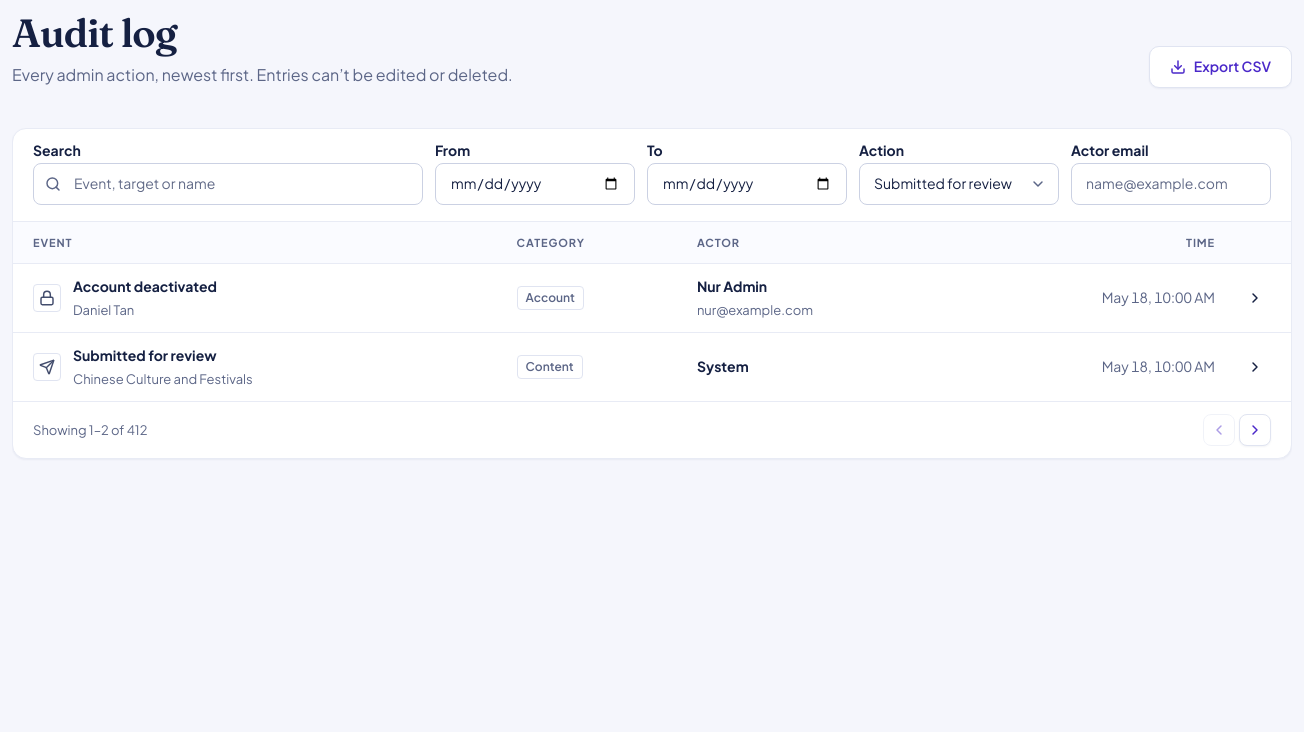
Test: AdminAuditLogPage › exports the filtered log as CSV
The image size is (1304, 732).
Step 1. Click the button with test id "admin-audit-export" → (1220,67), box [1149,46,1292,88]
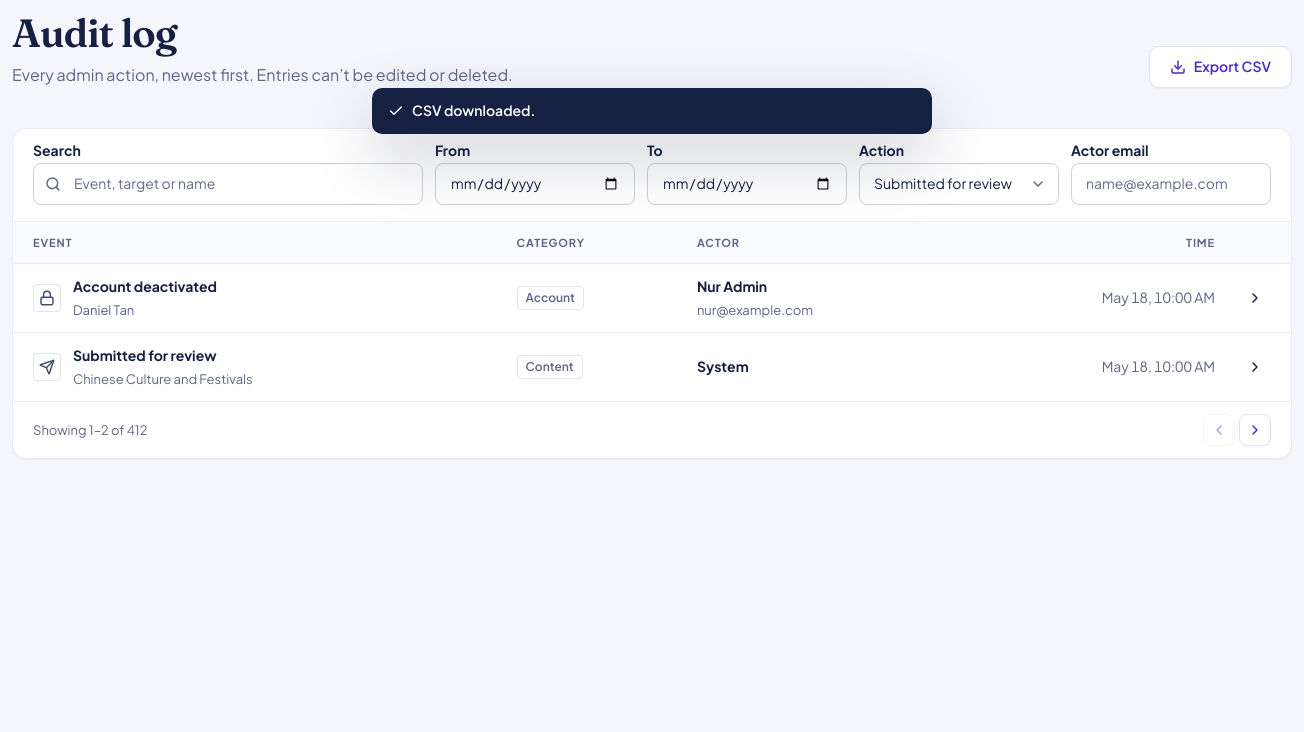
Expected: the element with test id "toast" reads "CSV downloaded.", [412,101,535,119]
Step 2. Click the button with test id "admin-audit-export" → (1220,67), box [1149,46,1292,88]
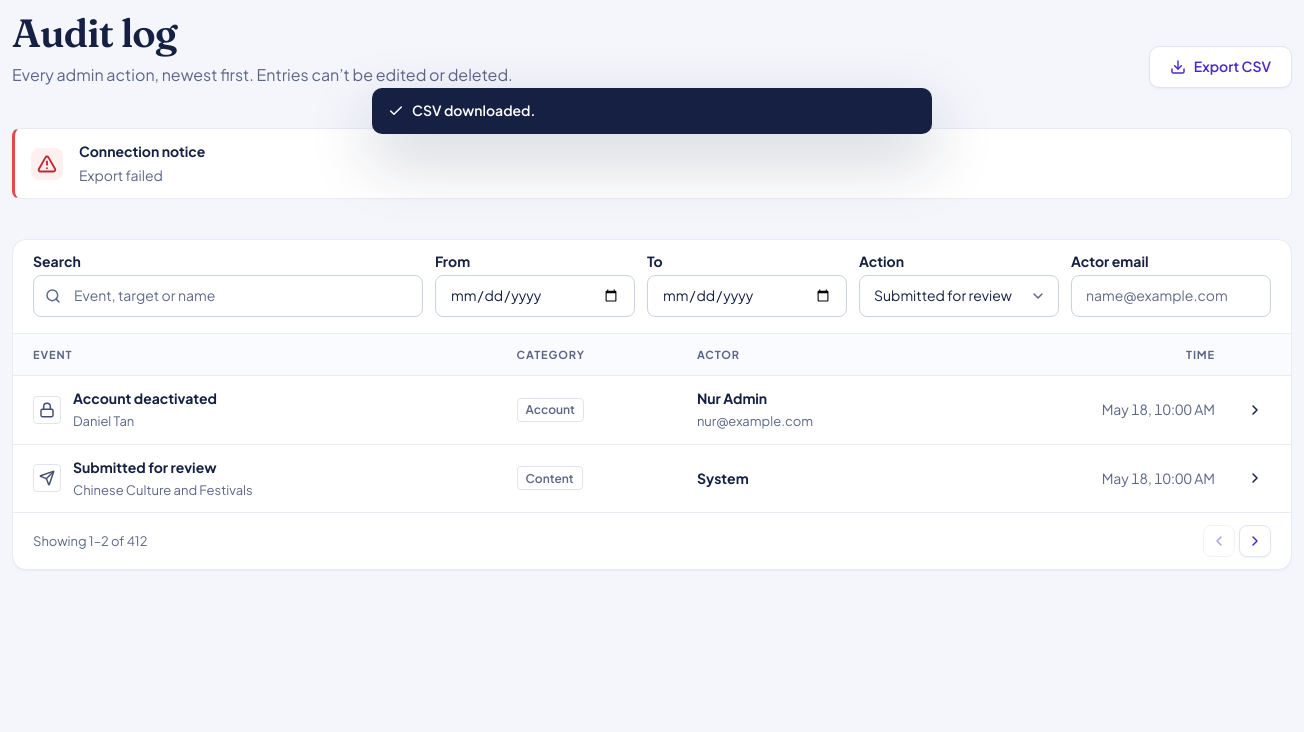
Expected: the text "Export failed" is shown, [79,166,163,184]
